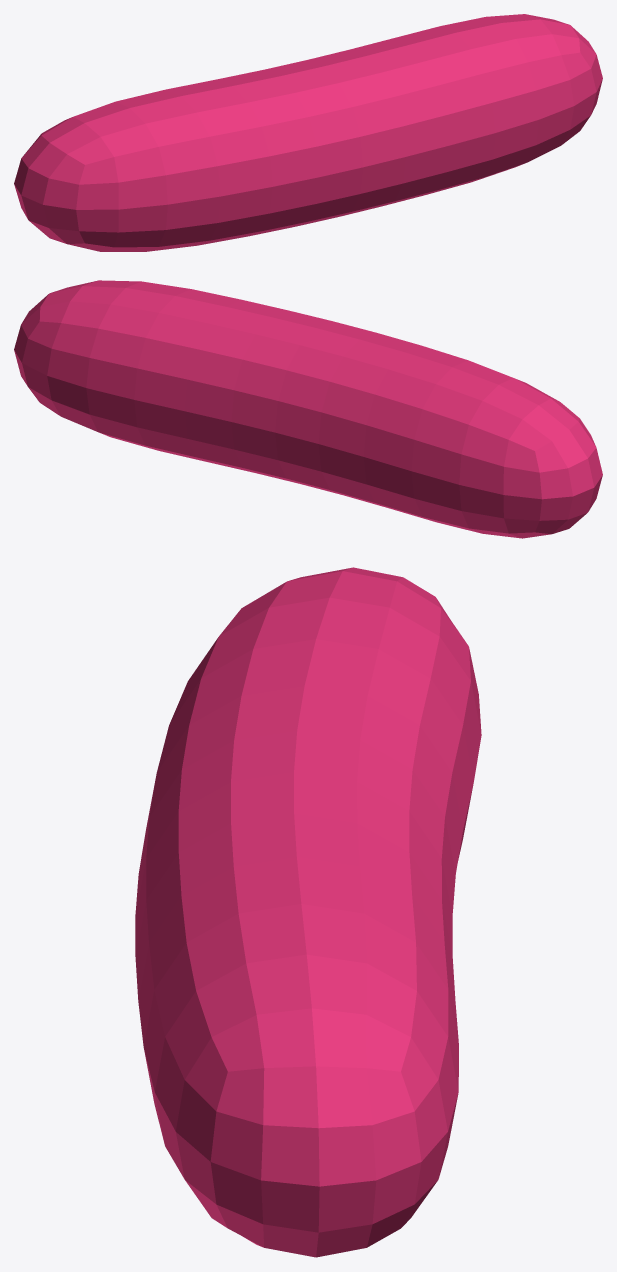
File: Door.fbx
3 views of the same model, one above another, from view 1: azimuth 30°, elevation 25°; view 2: azimuth 150°, elevation 25°; view 3: azimuth 270°, elevation 25° (orthographic). The views are drawn at different scales.
Visible parts, largest first — view 1: Door; view 2: Door; view 3: Door.
Boxes of the visible parts, x1,y1,x2,y2 form: Door: [14, 14, 602, 251]; Door: [14, 280, 602, 538]; Door: [135, 567, 481, 1257].
Size of the model in its own units: 7.51 by 1.83 by 2.
